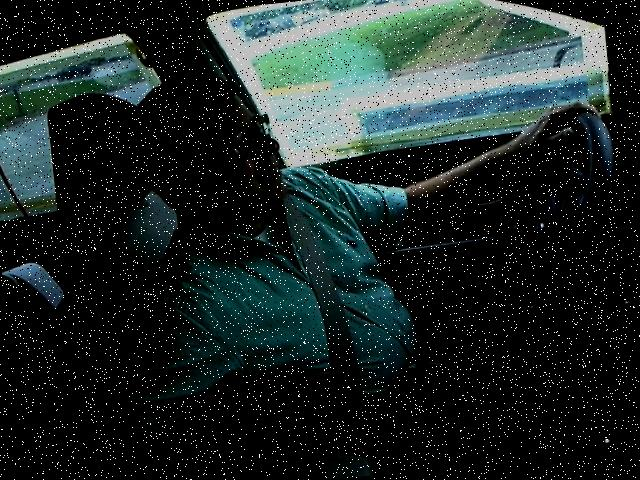c5 - Reaching Behind: (34, 27, 639, 452)
